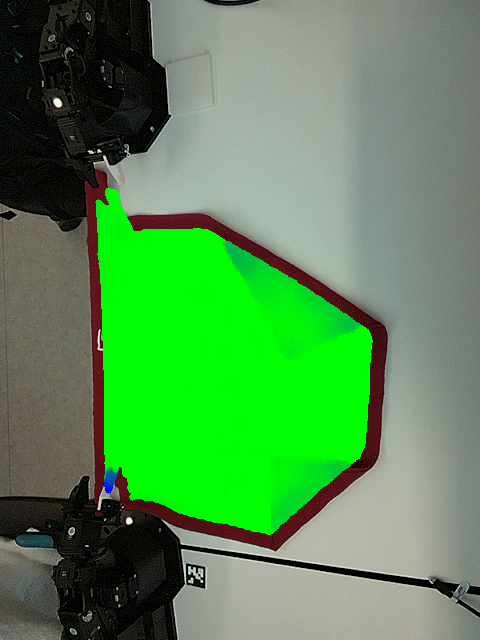V: (261, 425, 308, 487), (261, 313, 317, 364)
